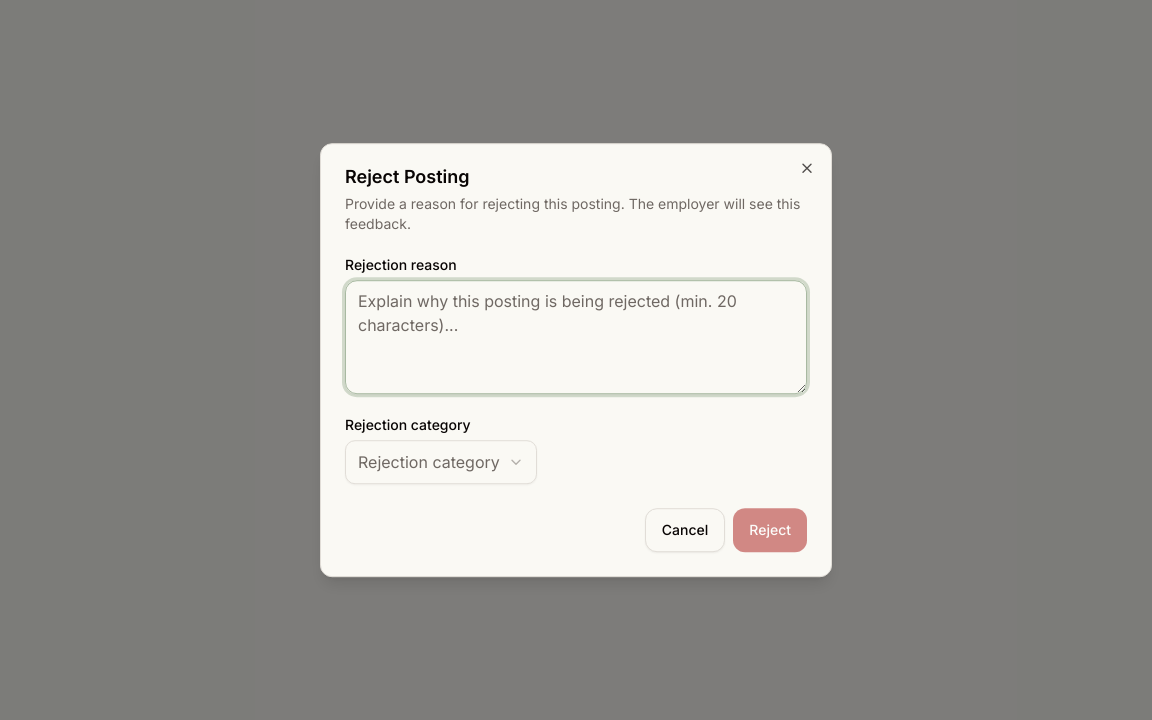
Test: RejectPostingModal › submit button is enabled when reason >= 20 chars and category selected
The width and height of the screenshot is (1152, 720).
Type "This is a valid rejection reason text." into the text box with test id "reject-reason-textarea" at (576, 337), box [345,280,807,394]
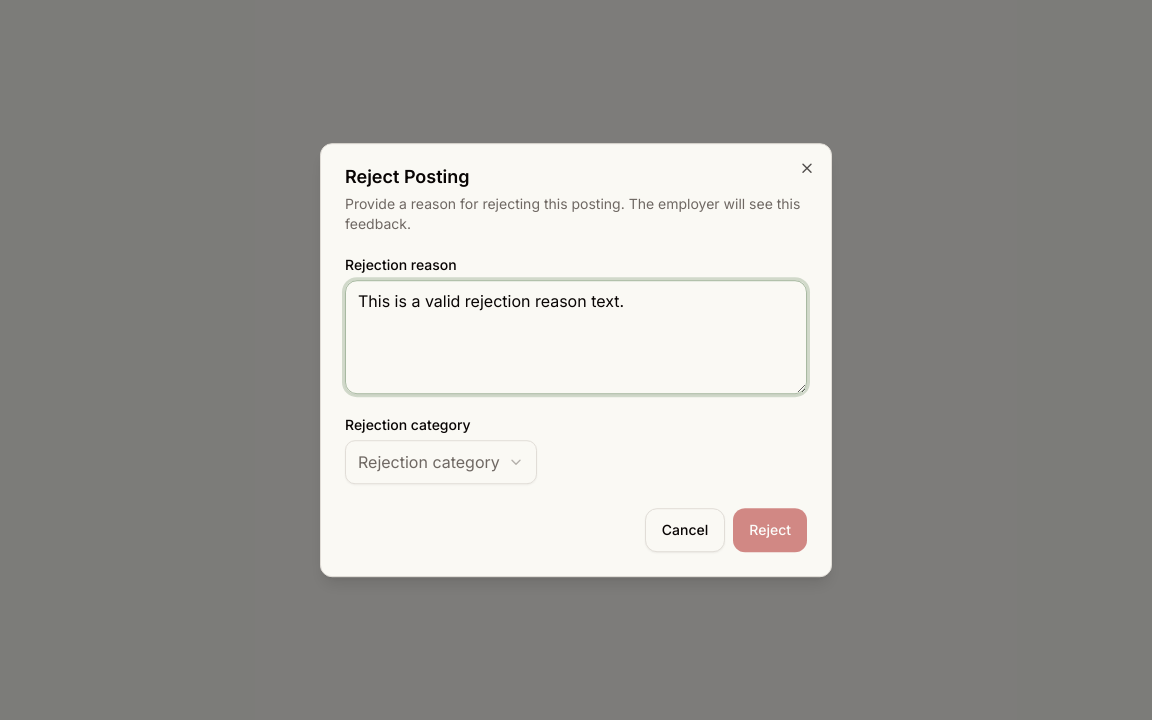
Select category via Radix Select — open trigger then click item
Click the dropdown with test id "reject-category-select" at (441, 462), box [345,440,537,484]
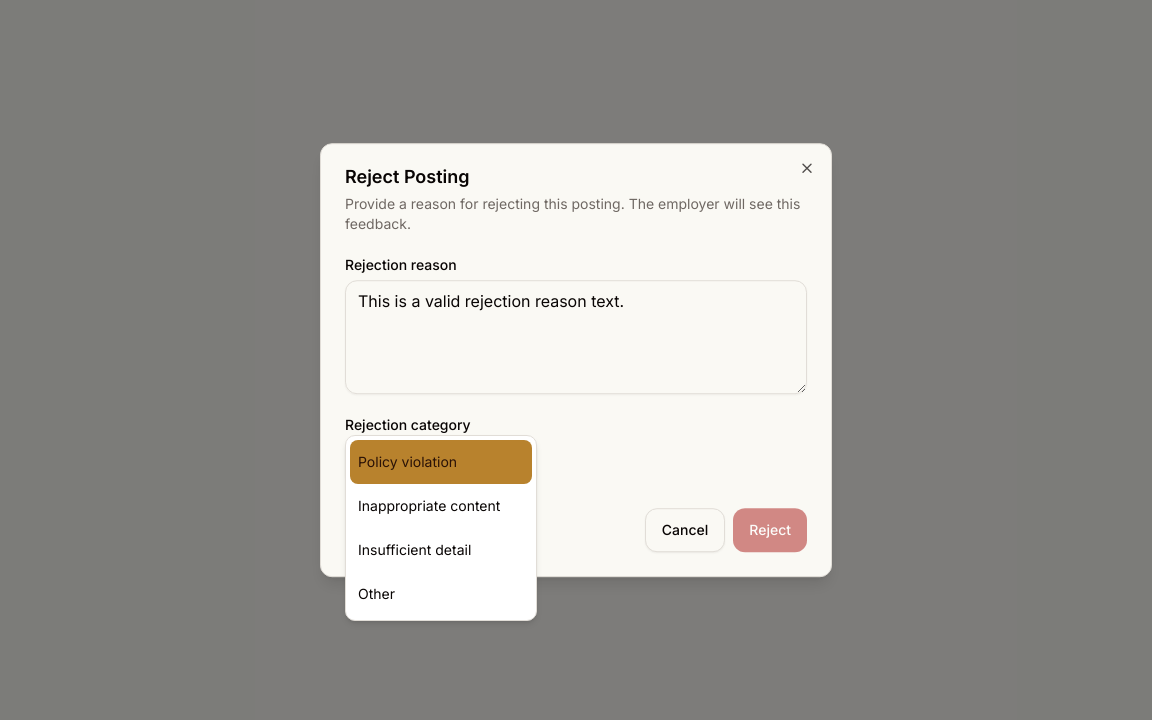
Click the option "Other" at (376, 593), box [358,585,395,602]
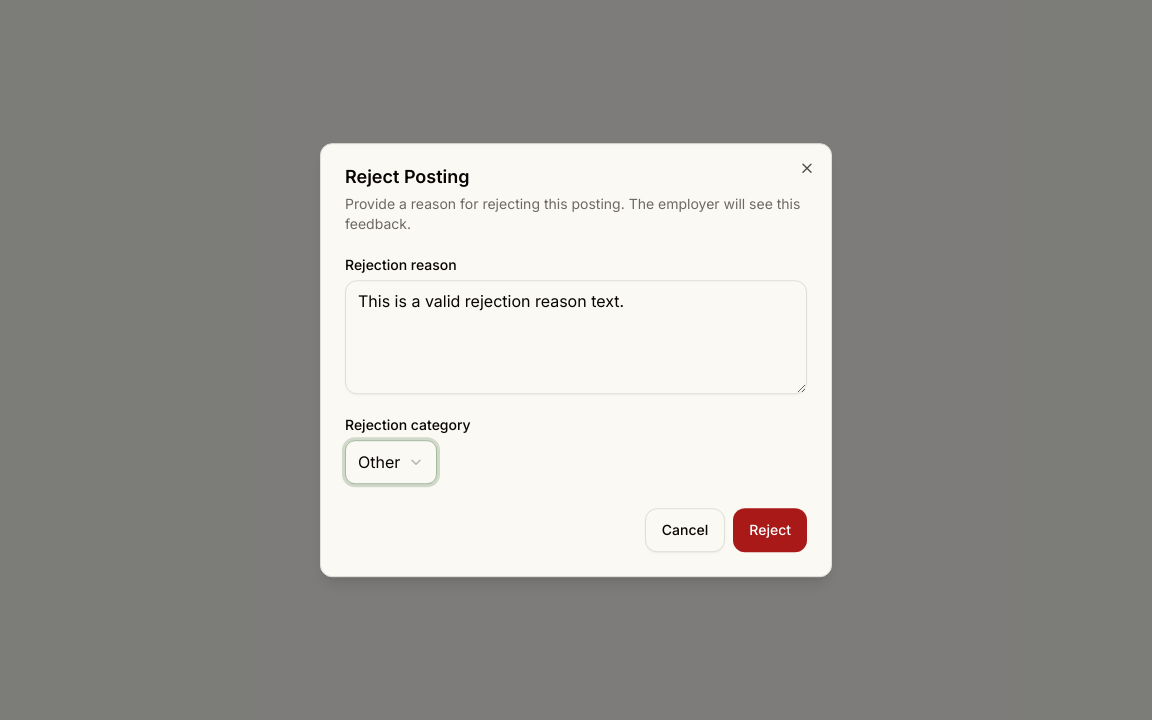
Check: the button with test id "reject-proceed-button" is enabled, box [733,508,807,552]
